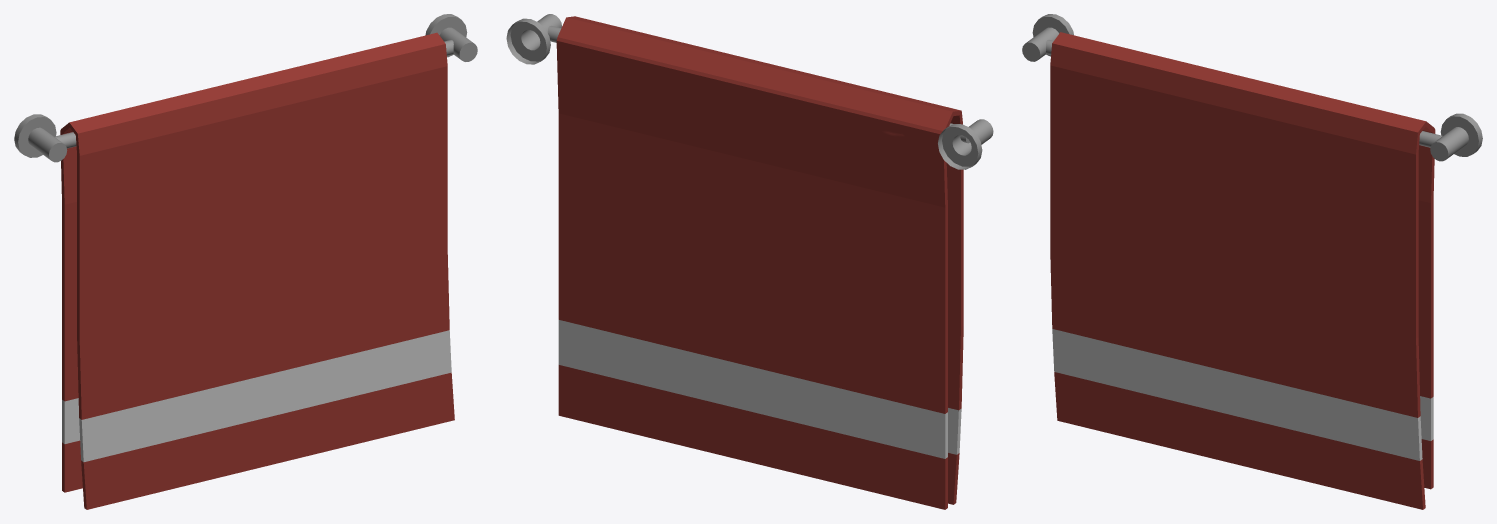
File: SM_TowelAndRack.fbx
3 renders of one model, left to right at view 1: azimuth 30°, elevation 25°; view 2: azimuth 150°, elevation 25°; view 3: azimuth 330°, elevation 25°, orthographic. The views are drawn at different scales.
Parts seen in each view (by area): view 1: Towel, TowelRack; view 2: Towel, TowelRack; view 3: Towel, TowelRack.
Boxes of the visible parts, x1,y1,x2,y2 form: Towel: [60, 32, 454, 509]; TowelRack: [14, 14, 477, 162]; Towel: [556, 16, 963, 509]; TowelRack: [506, 14, 993, 169]; Towel: [1050, 32, 1435, 509]; TowelRack: [1022, 14, 1482, 161].
Bounding box in the file's own units: 99.2 × 80.91 × 9.9.
